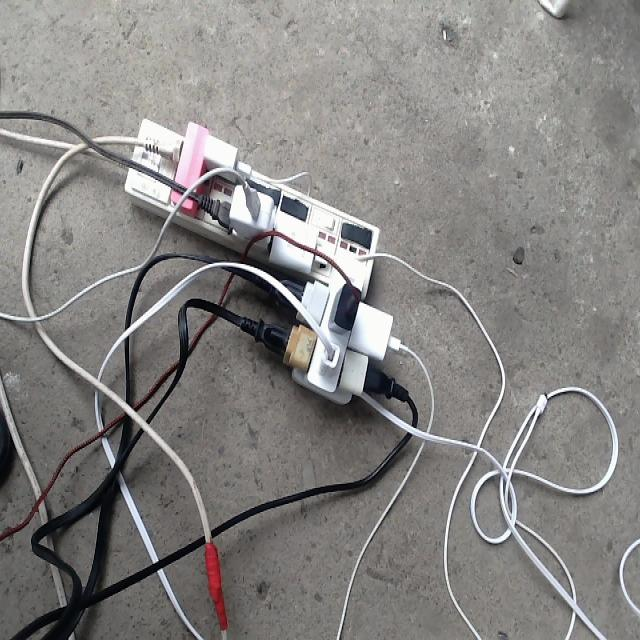-: (123, 116, 412, 405)
